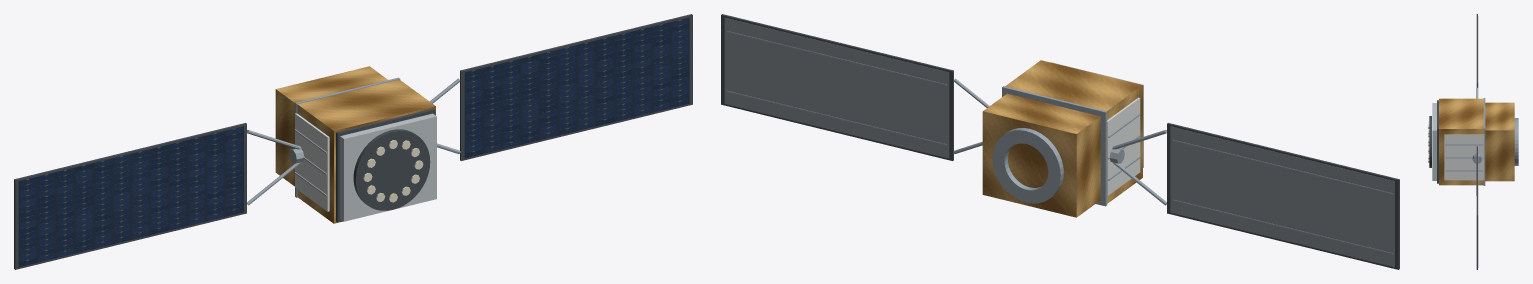
The model's file is irnss.glb.
3 renders of one model, left to right at view 1: azimuth 30°, elevation 25°; view 2: azimuth 150°, elevation 25°; view 3: azimuth 270°, elevation 25°, orthographic. The views are drawn at different scales.
Parts seen in each view (by area): view 1: Solar cell panel (×2), Payload module, Solar panel frame (×2), Planar antenna aperture, Antenna equipment shelf, Service module, Radiator face, Earth-facing deck; view 2: Rear array substrate (×2), Service module, Payload module, Solar panel frame (×2), Launch adapter ring, Radiator face, Rear stiffener (×4), Module interface; view 3: Service module, Payload module, Radiator face, Solar panel frame (×2), Antenna equipment shelf, Launch adapter ring, Module interface, Rear array substrate (×2), Earth-facing deck, Planar antenna aperture, Radiator seam (×2), Array drive.
Part boxes in pixels (bbox=[...]): Solar cell panel (×2): bbox=[18, 17, 689, 267]; Payload module: bbox=[297, 79, 435, 223]; Solar panel frame (×2): bbox=[14, 14, 692, 269]; Planar antenna aperture: bbox=[353, 129, 430, 210]; Antenna equipment shelf: bbox=[340, 113, 436, 221]; Service module: bbox=[275, 66, 387, 186]; Radiator face: bbox=[295, 113, 329, 211]; Earth-facing deck: bbox=[336, 108, 435, 222]; Rear array substrate (×2): bbox=[724, 17, 1394, 267]; Service module: bbox=[982, 93, 1100, 217]; Payload module: bbox=[1005, 60, 1142, 203]; Solar panel frame (×2): bbox=[721, 14, 1399, 269]; Launch adapter ring: bbox=[992, 128, 1063, 203]; Radiator face: bbox=[1106, 97, 1140, 195]; Rear stiffener (×4): bbox=[726, 31, 1392, 254]; Module interface: bbox=[1002, 86, 1107, 206]; Service module: bbox=[1485, 102, 1514, 181]; Payload module: bbox=[1439, 98, 1483, 185]; Radiator face: bbox=[1444, 134, 1484, 180]; Solar panel frame (×2): bbox=[1476, 14, 1477, 269]; Antenna equipment shelf: bbox=[1432, 103, 1436, 180]; Launch adapter ring: bbox=[1514, 118, 1518, 165]; Module interface: bbox=[1483, 98, 1485, 185]; Rear array substrate (×2): bbox=[1478, 16, 1478, 267]; Earth-facing deck: bbox=[1437, 100, 1438, 183]; Planar antenna aperture: bbox=[1429, 116, 1431, 167]; Radiator seam (×2): bbox=[1445, 144, 1483, 171]; Array drive: bbox=[1472, 154, 1481, 163].
Size of the model in its own units: 9.97 by 1.32 by 1.9.
Materials: 8 (2 with a texture image).
